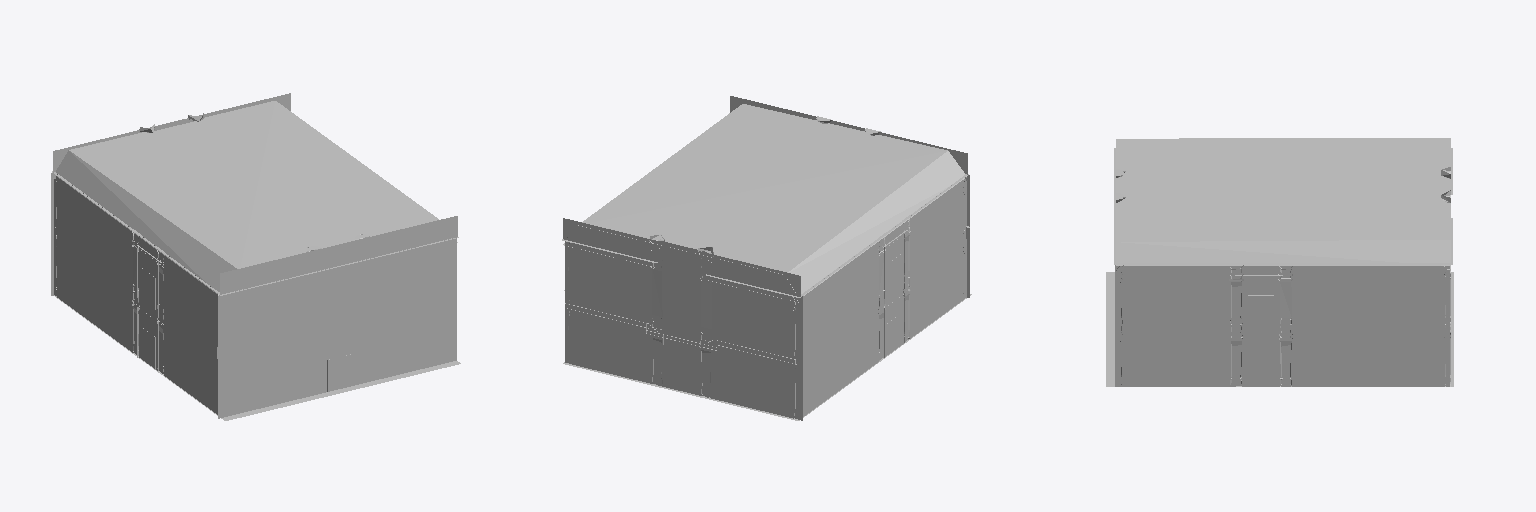
File: hall-collision.obj
3 renders of one model, left to right at view 1: azimuth 30°, elevation 25°; view 2: azimuth 150°, elevation 25°; view 3: azimuth 270°, elevation 25°, orthographic.
Size of the model in its own units: 26.2 by 15.46 by 32.81.